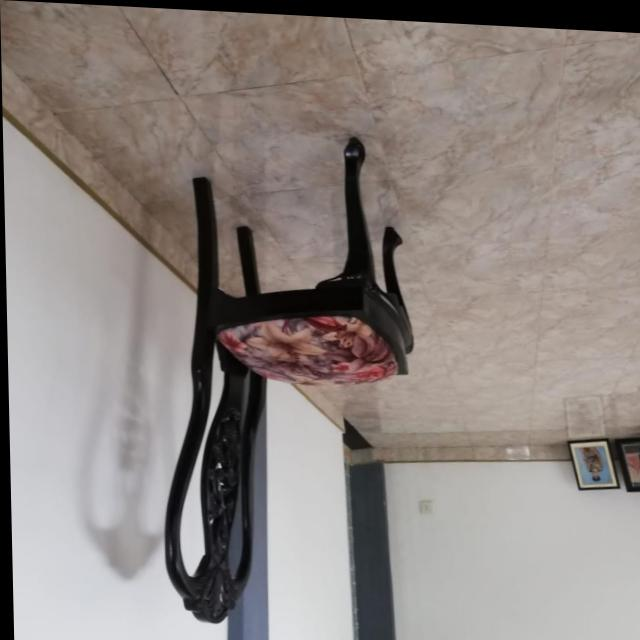Chair: (154, 124, 421, 631)
